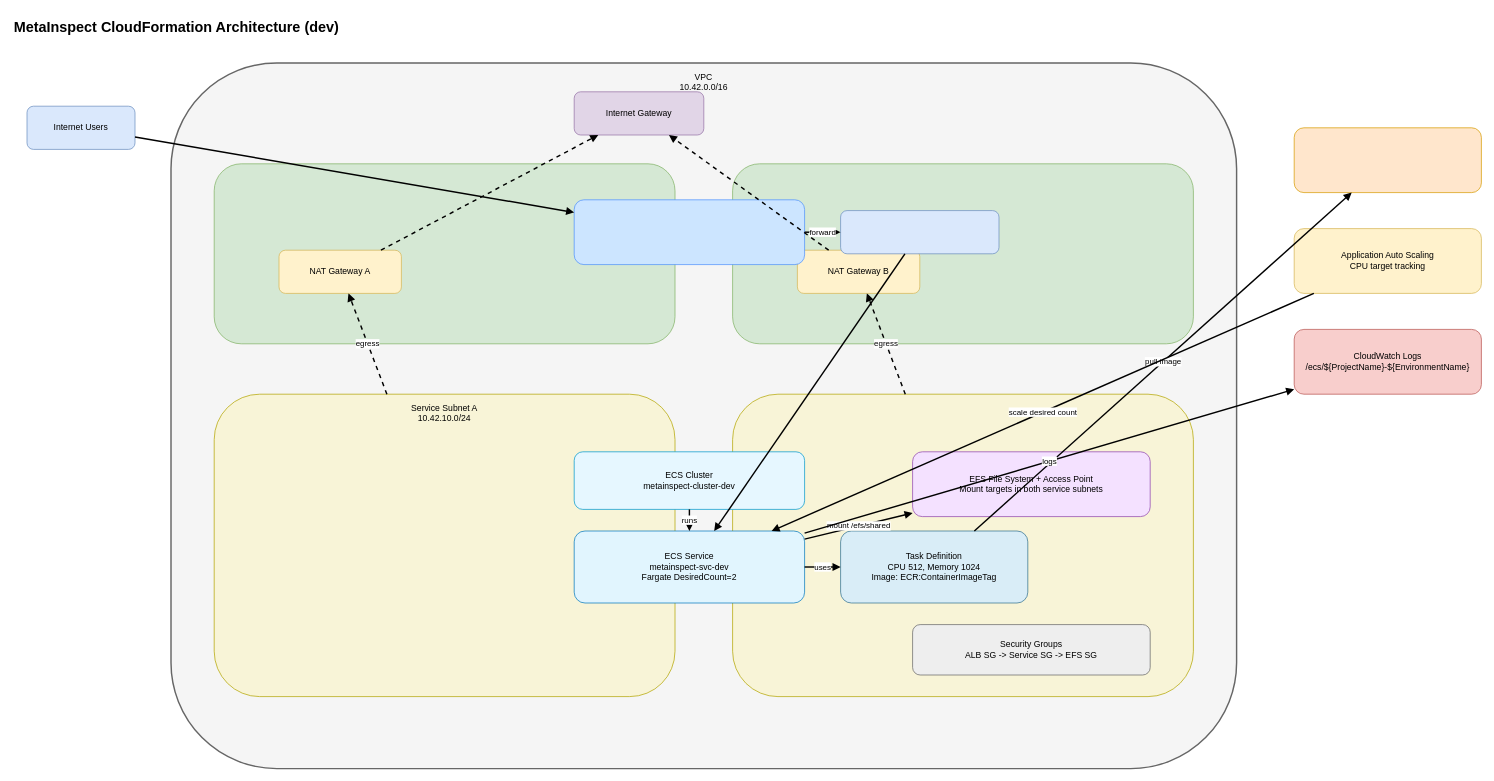
Image size: 1494x781. Some labels were removed from this diagram. Here are the shapes that lost their labels. From the top down, the box of each, then its label:
(1293, 127, 1481, 193): ECR Repository ${ProjectName}-${EnvironmentName}
(573, 199, 805, 265): Application Load Balancer Listener :80
(840, 210, 999, 254): Target Group HTTP /health
(213, 163, 675, 344): Public Subnet A 10.42.0.0/24
(732, 163, 1193, 344): Public Subnet B 10.42.1.0/24
(732, 393, 1193, 697): Service Subnet B 10.42.11.0/24
